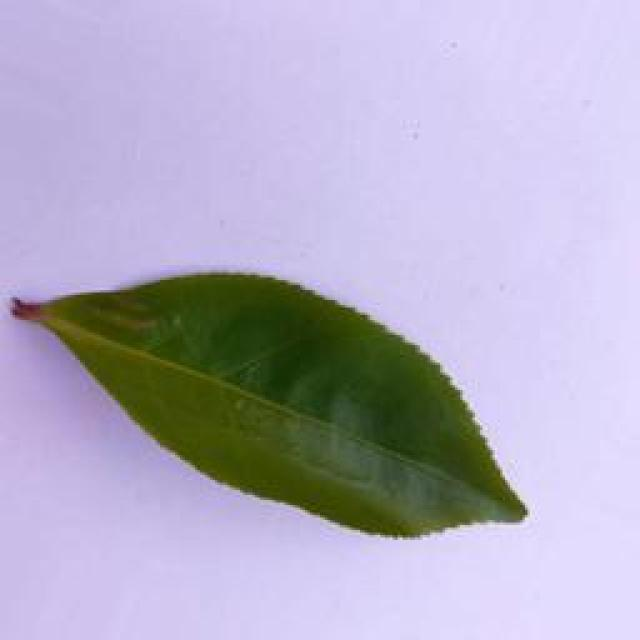Healthy: (3, 276, 538, 536)
